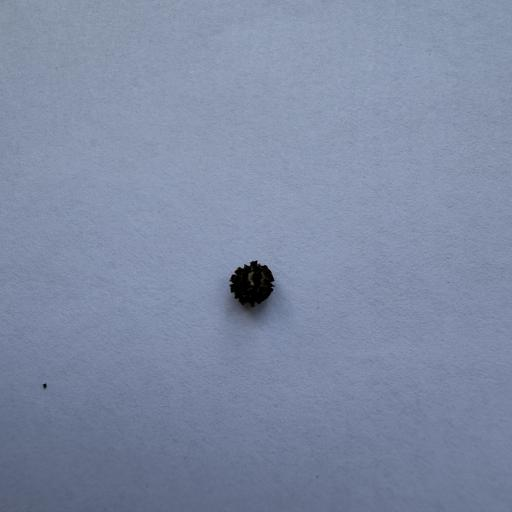papaya_seed: (212, 254, 302, 317)
